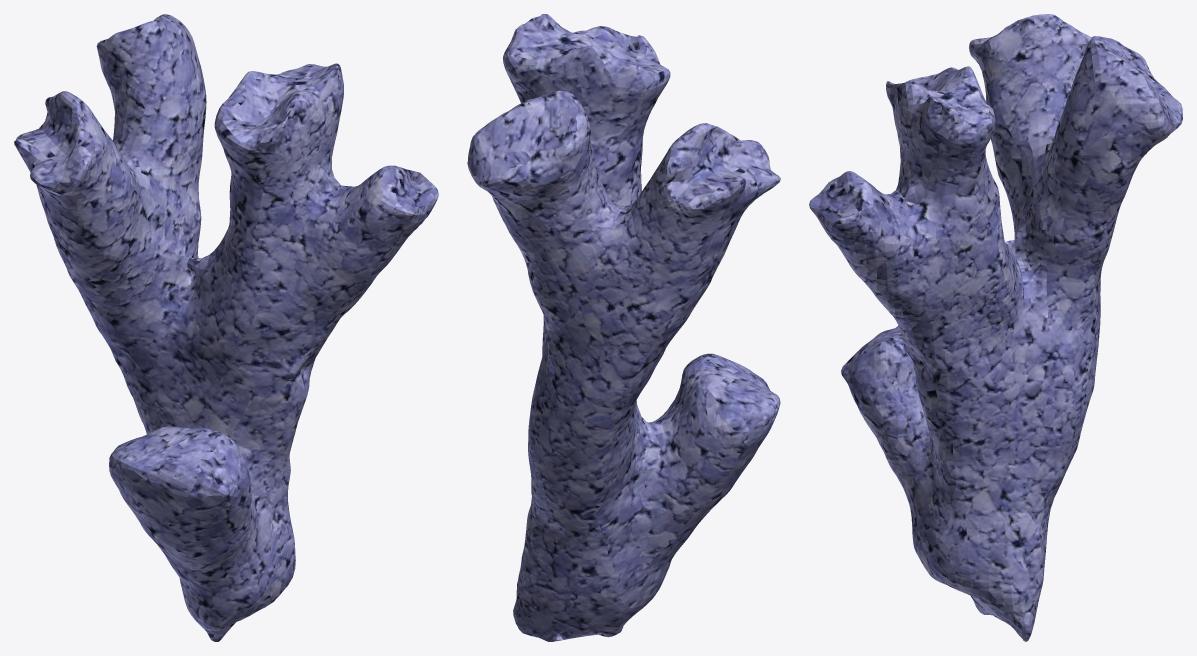
Rendered from coral tree blue.glb.
3 renders of one model, left to right at view 1: azimuth 30°, elevation 25°; view 2: azimuth 150°, elevation 25°; view 3: azimuth 270°, elevation 25°, orthographic. The views are drawn at different scales.
Parts seen in each view (by area): view 1: coral_9_watertight_small; view 2: coral_9_watertight_small; view 3: coral_9_watertight_small.
Part boxes in pixels (x1,y1,x2,y2): coral_9_watertight_small: (14,14,438,641); coral_9_watertight_small: (467,14,780,641); coral_9_watertight_small: (809,14,1182,641).
Size of the model in its own units: 49.05 by 84.97 by 50.45.
1 material, 1 textured.
